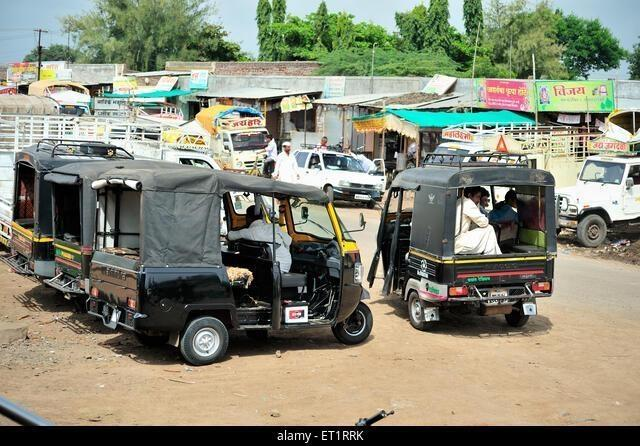keke: (87, 159, 371, 368), (374, 166, 558, 346)
